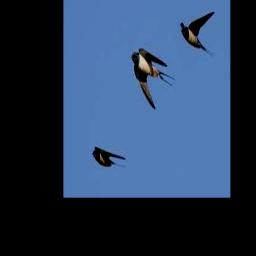Swallow: (131, 48, 176, 109), (181, 11, 215, 57), (93, 147, 126, 168)
